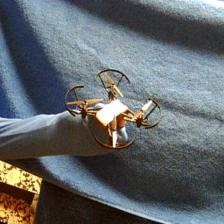drone: (67, 66, 162, 150)
